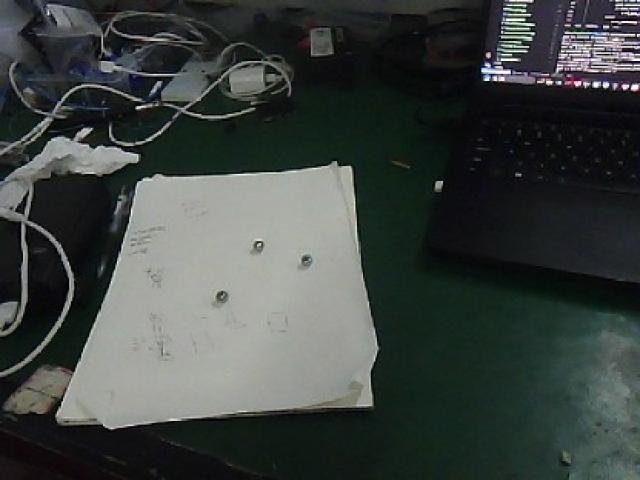steel-ball: (203, 277, 232, 314), (239, 228, 266, 254), (292, 248, 323, 270)
